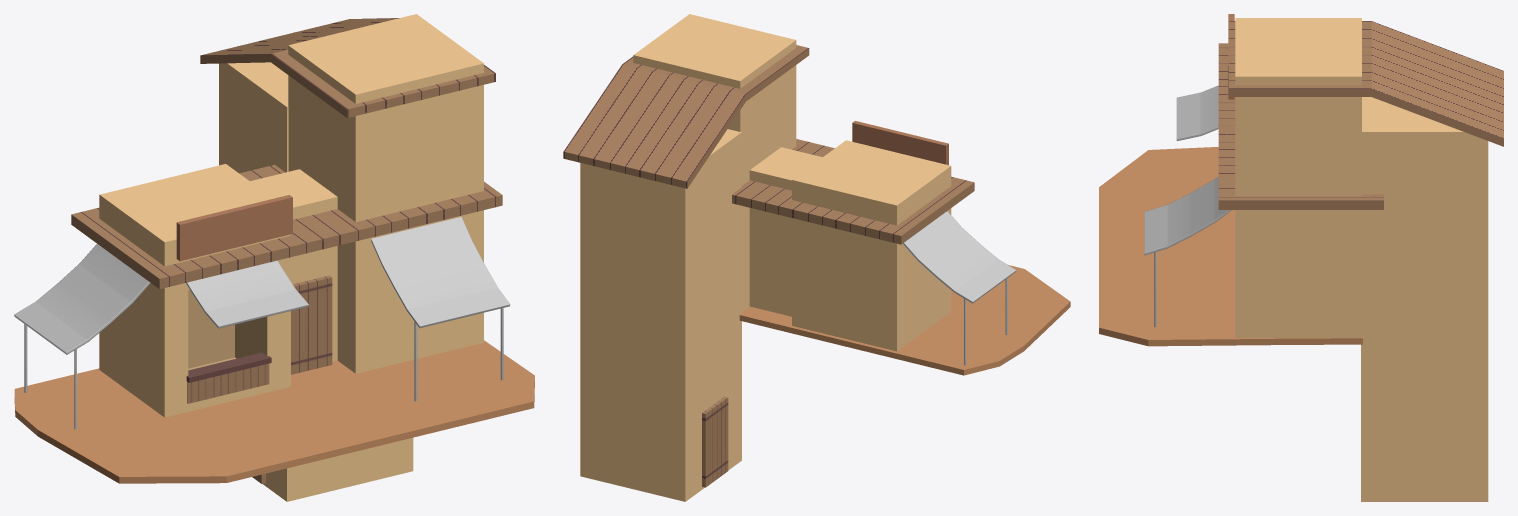
File: store.fbx
3 views of the same model, side by side, from view 1: azimuth 30°, elevation 25°; view 2: azimuth 150°, elevation 25°; view 3: azimuth 270°, elevation 25° (orthographic). The views are drawn at different scales.
Parts seen in each view (by area): view 1: wall3, base, wall1, wall4, roof, tent, tent3, roof_upside, tent2, sign, wall2, door (+3 smaller); view 2: wall4, wall1, roof_upside, wall3, base, wall2, roof, tent3, sign, door2; view 3: wall4, wall3, base, roof_upside, roof, tent, tent2.
Boxes of the visible parts, x1,y1,x2,y2 form: wall3: (288,14,483,373); base: (14,340,534,483); wall1: (99,164,290,417); wall4: (219,62,413,501); roof: (71,164,502,289); tent: (371,217,510,328); tent3: (14,244,150,354); roof_upside: (200,18,495,117); tent2: (186,260,308,328); sign: (176,195,292,261); wall2: (250,169,337,361); door: (291,275,332,374); wall4: (580,129,741,501); wall1: (792,140,951,351); roof_upside: (563,45,809,188); wall3: (633,14,796,311); base: (739,265,1070,375); wall2: (749,147,822,316); roof: (732,139,974,244); tent3: (903,211,1016,303); sign: (852,121,948,165); door2: (702,396,728,487); wall4: (1361,97,1488,501); wall3: (1235,18,1361,337); base: (1099,147,1362,346); roof_upside: (1229,21,1503,146); roof: (1218,43,1383,209); tent: (1144,176,1231,255); tent2: (1176,85,1218,140).
Size of the model in its own units: 3992 by 4010 by 3443.
